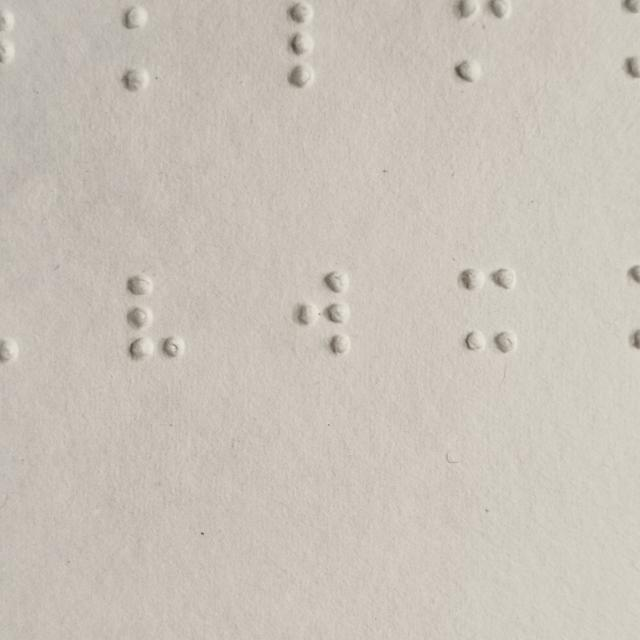bagaman: (126, 275, 187, 362)
ito: (459, 268, 519, 355)
kaya: (121, 7, 181, 94)
lamang: (285, 1, 346, 88)
wala: (292, 271, 353, 358)
